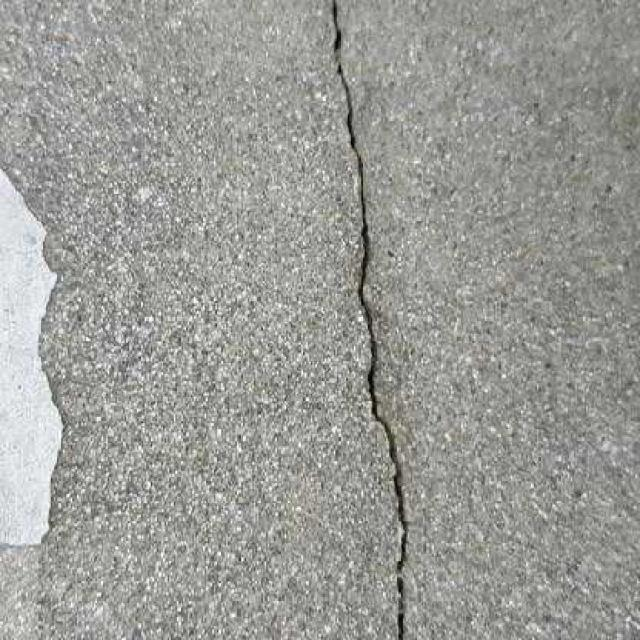D00: (331, 0, 408, 640)
